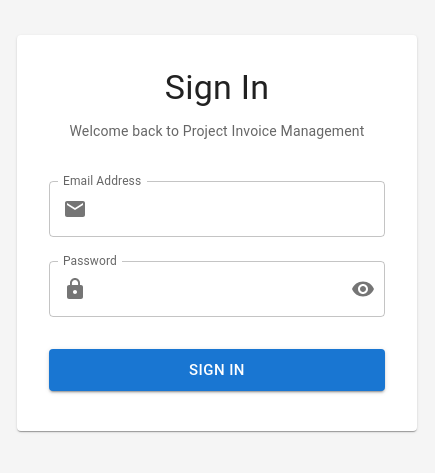
LoginForm › should validate email format
Expected: the heading "Sign In" is shown, [165,67,269,107]
Type "invalid-email" into the field labelled "Email Address".
click(240, 209); type("invalid-email")  # box [95,181,385,237]
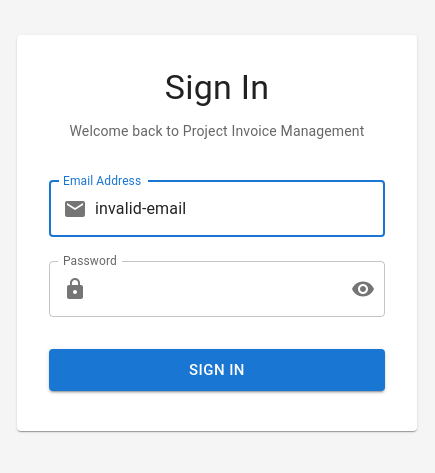
Click the button "Sign In".
click(217, 370)  # box [49,349,385,391]
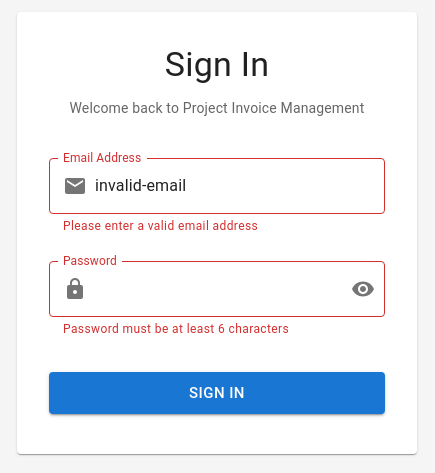
Expected: the text "Please enter a valid email address" is shown, [63,219,258,233]
